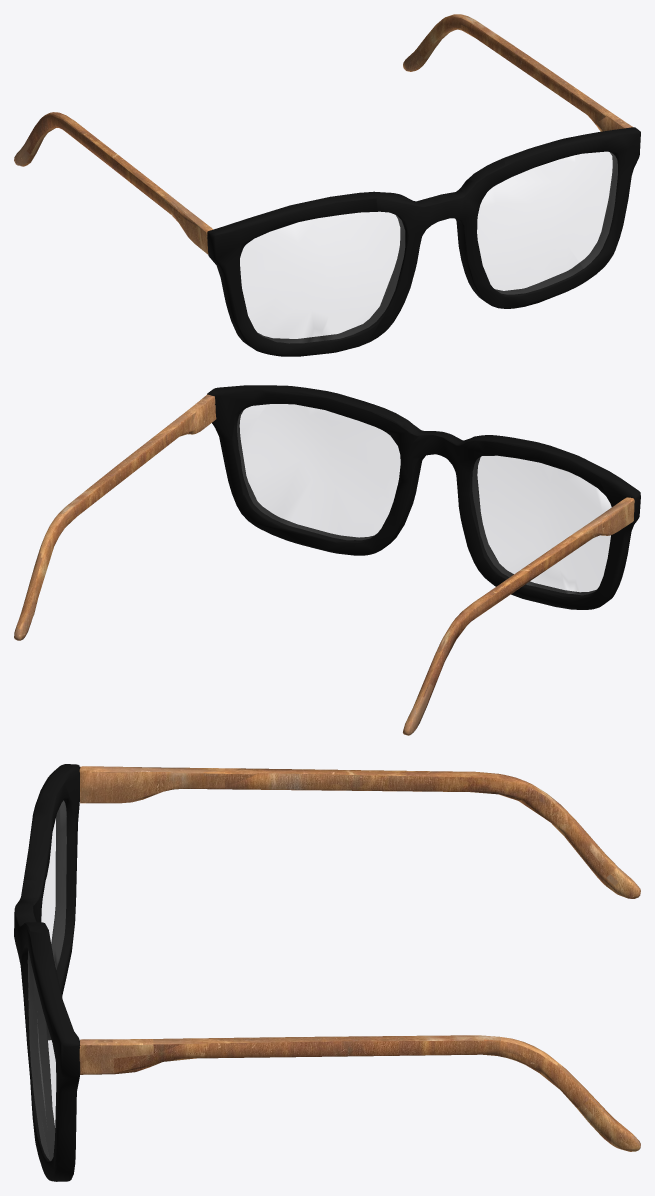
Rendered from glasses.glb.
3 renders of one model, top to bottom at view 1: azimuth 30°, elevation 25°; view 2: azimuth 150°, elevation 25°; view 3: azimuth 270°, elevation 25°, orthographic. The views are drawn at different scales.
Parts seen in each view (by area): view 1: Object_9, Object_5, Object_7; view 2: Object_9, Object_5, Object_7; view 3: Object_7, Object_5, Object_9.
Part boxes in pixels (left/top/right/bottom): Object_9: left=240, top=152, right=617, bottom=343; Object_5: left=207, top=127, right=640, bottom=356; Object_7: left=14, top=14, right=633, bottom=254; Object_9: left=237, top=404, right=610, bottom=594; Object_5: left=207, top=385, right=640, bottom=609; Object_7: left=14, top=394, right=634, bottom=735; Object_7: left=79, top=766, right=640, bottom=1151; Object_5: left=14, top=764, right=79, bottom=1181; Object_9: left=28, top=801, right=66, bottom=1160.
Size of the model in its own units: 1.41 by 0.4819 by 1.33.
3 materials, 1 textured.
